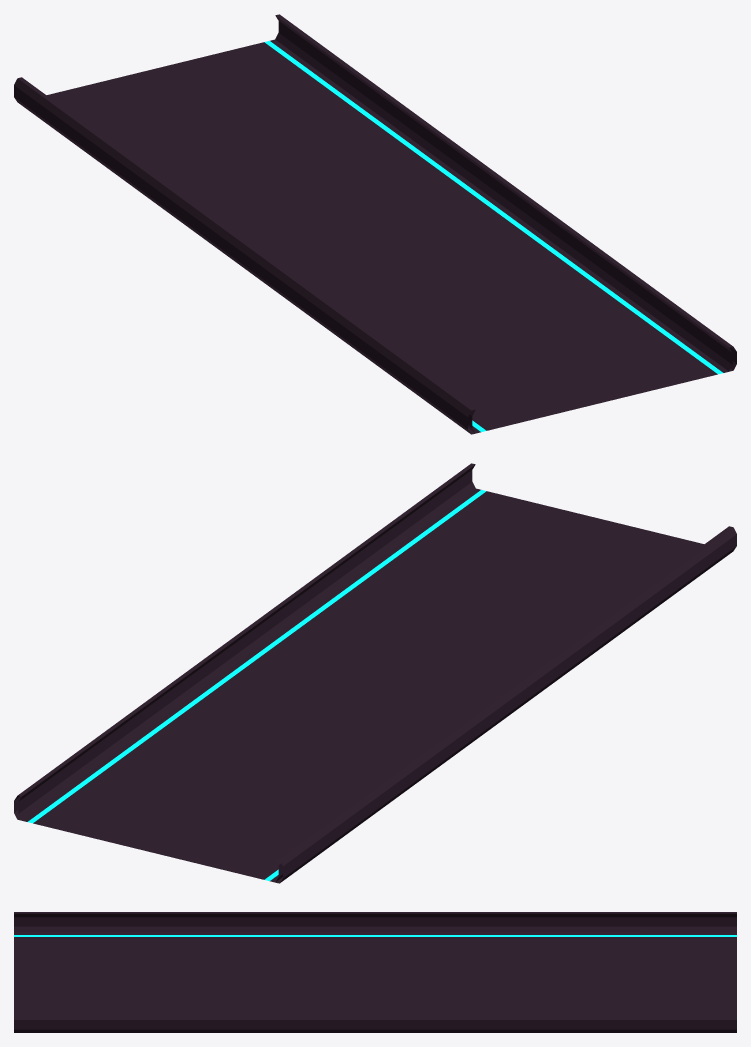
Rendered from platform4.fbx.
3 renders of one model, top to bottom at view 1: azimuth 30°, elevation 25°; view 2: azimuth 150°, elevation 25°; view 3: azimuth 270°, elevation 25°, orthographic. The views are drawn at different scales.
Parts seen in each view (by area): view 1: Cube.002; view 2: Cube.002; view 3: Cube.002.
Boxes of the visible parts, box(x1,y1,x2,y2) form: Cube.002: box(14, 14, 736, 434); Cube.002: box(14, 463, 736, 883); Cube.002: box(14, 912, 736, 1032).
Bounding box in the file's own units: 10262 × 877 × 30000.
